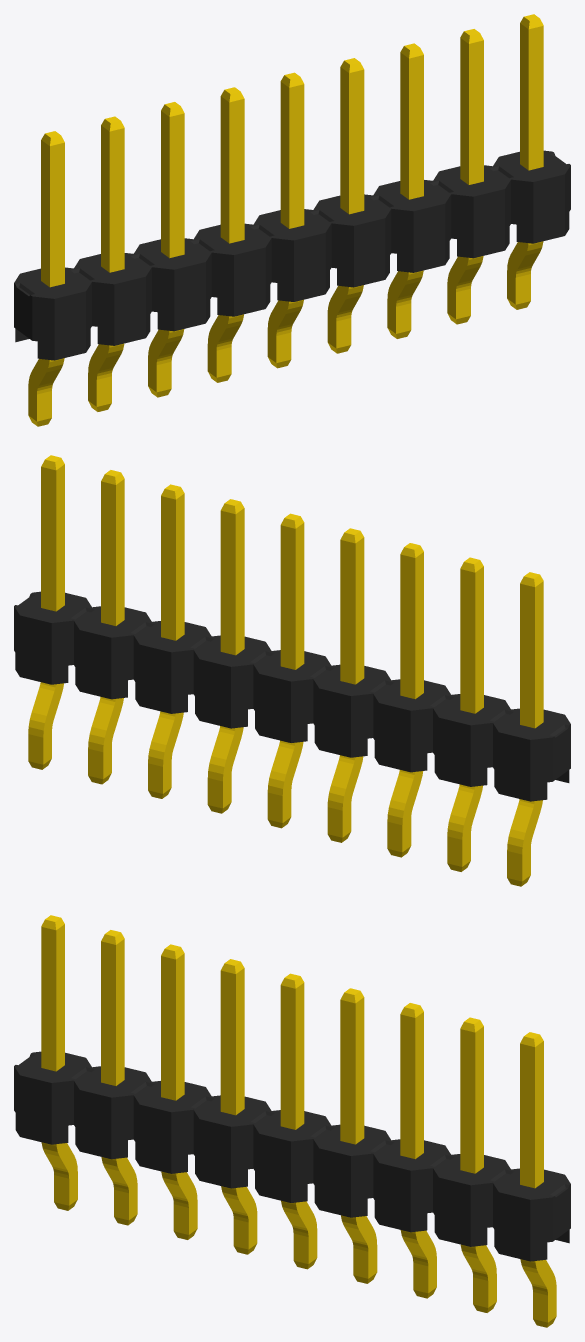
Rendered from DS1025 (PLS-09T CONNFLY).obj.
3 views of the same model, one above another, from view 1: azimuth 30°, elevation 25°; view 2: azimuth 150°, elevation 25°; view 3: azimuth 330°, elevation 25° (orthographic).
Visible parts, largest first — view 1: DS1025_(PLS-09T_CONNFLY); view 2: DS1025_(PLS-09T_CONNFLY); view 3: DS1025_(PLS-09T_CONNFLY).
Part boxes in pixels (box(x1,y1,x2,y2)): DS1025_(PLS-09T_CONNFLY): box(14, 14, 570, 426); DS1025_(PLS-09T_CONNFLY): box(14, 455, 570, 886); DS1025_(PLS-09T_CONNFLY): box(14, 915, 570, 1327).
Size of the model in its own units: 0.016 by 0.00844 by 0.00177.
